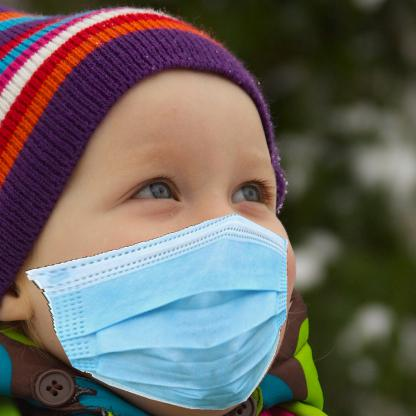Correctly_Masked: (31, 79, 296, 411)
